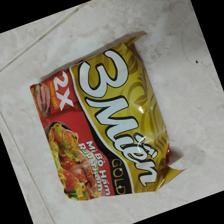3mien: (26, 35, 186, 202)
